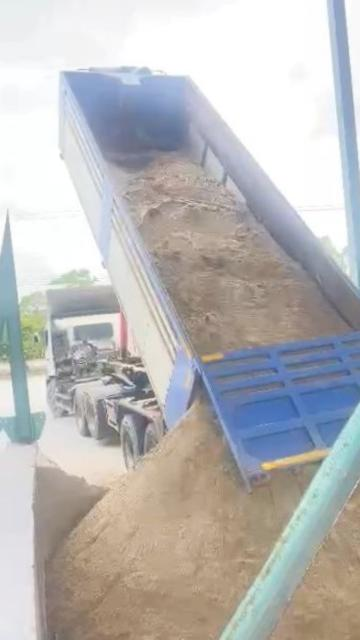sand: (48, 405, 311, 640), (114, 153, 348, 353), (264, 450, 360, 640), (34, 454, 105, 560)
